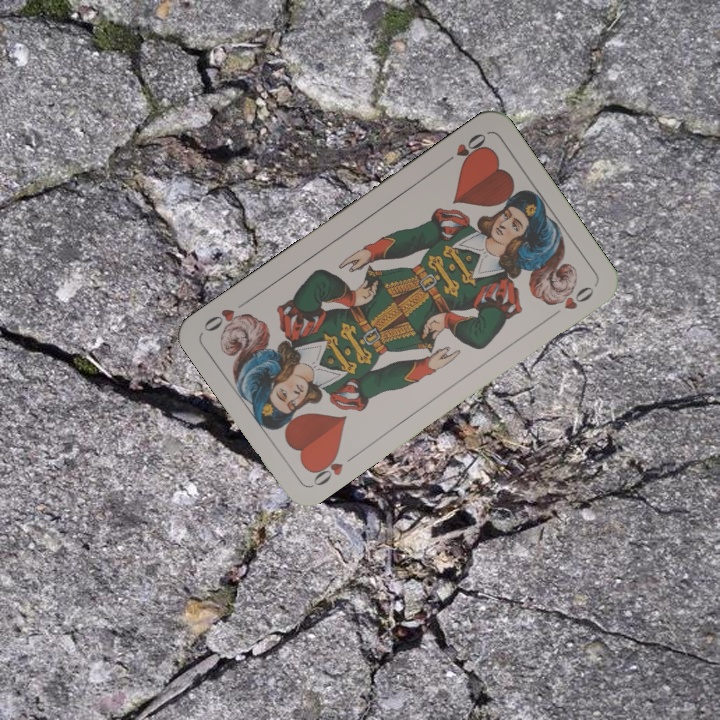HO: (306, 447, 360, 489), (437, 129, 489, 169)
